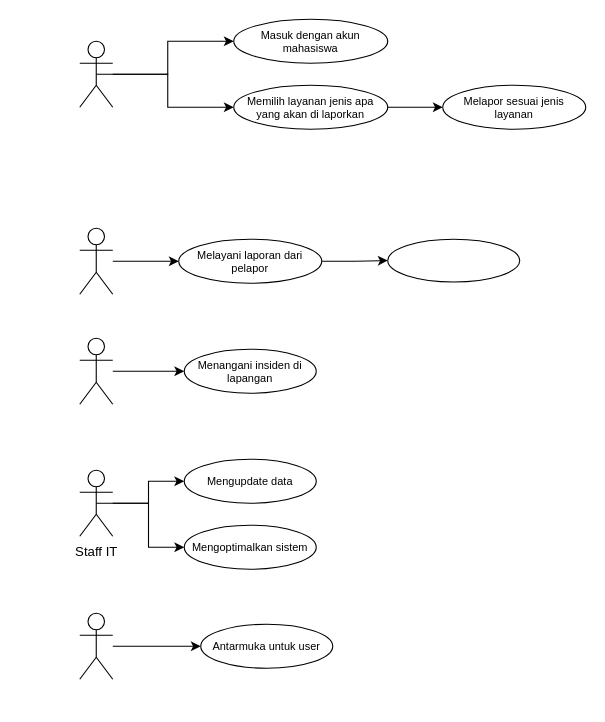
Image size: 605x722. Some labels were removed from this diagram. The shapes that lost their labels are listed below. From the top down, each one's centre as x and y in pixels, then its label:
At point 96,73: "Pelapor".
At point 96,260: "Admin".
At point 453,260: "Menghubungi pelapor".
At point 96,370: "Petugas dan Keselamatan Kampus".
At point 96,645: "Sistem".
